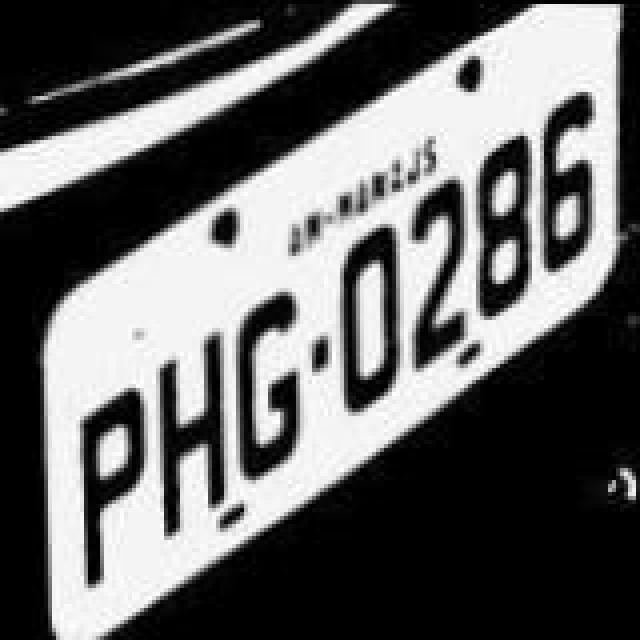2: (404, 172, 476, 368)
6: (530, 90, 602, 278)
8: (470, 128, 542, 328)
G: (220, 290, 300, 486)
H: (154, 324, 234, 536)
O: (334, 218, 414, 422)
P: (68, 384, 156, 592)
